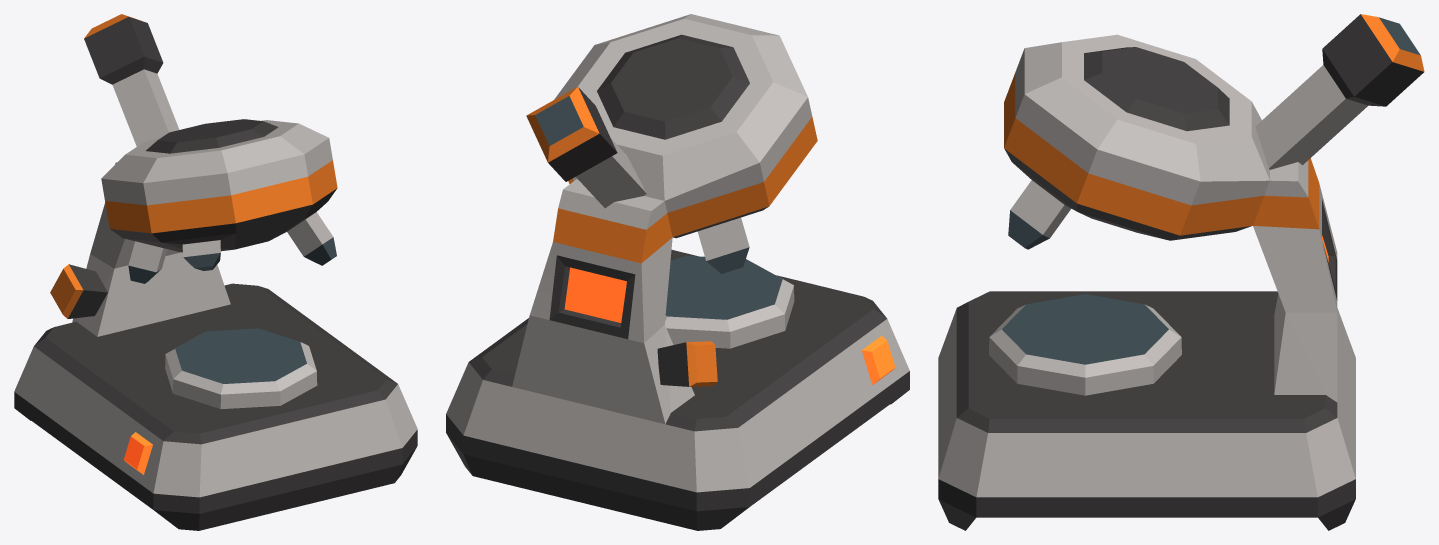
The model's file is scifi_scifi-microscope.fbx.
3 renders of one model, left to right at view 1: azimuth 30°, elevation 25°; view 2: azimuth 150°, elevation 25°; view 3: azimuth 270°, elevation 25°, orthographic. The views are drawn at different scales.
Visible parts, largest first — view 1: scifi_scifi_microscope; view 2: scifi_scifi_microscope; view 3: scifi_scifi_microscope.
Boxes of the visible parts, bbox=[...] form: scifi_scifi_microscope: bbox=[14, 14, 417, 530]; scifi_scifi_microscope: bbox=[446, 14, 909, 530]; scifi_scifi_microscope: bbox=[938, 14, 1424, 530].
Bounding box in the file's own units: 152 × 200 × 196.
